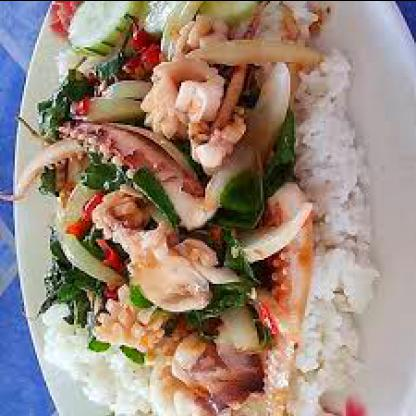Basil Rice: (16, 2, 389, 415)
